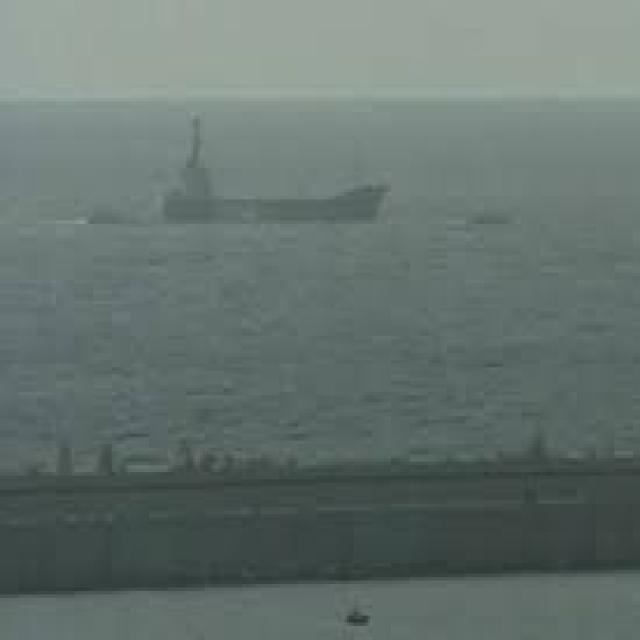cargoship: (132, 118, 381, 242)
